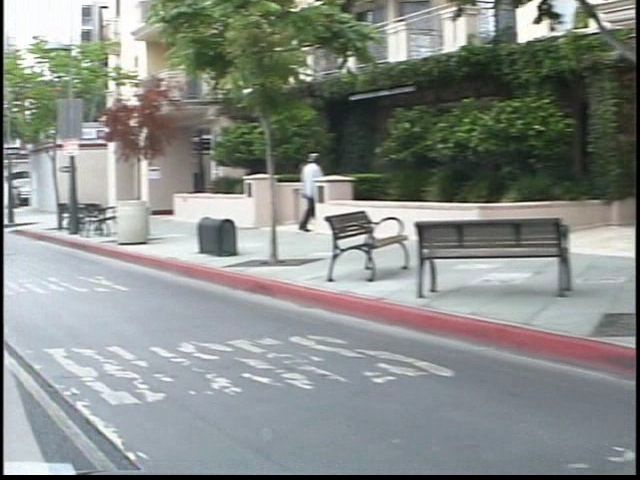person: (277, 145, 305, 237)
